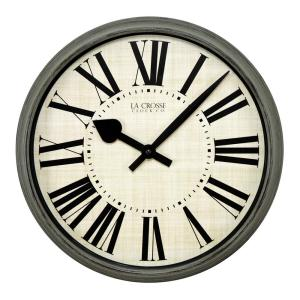clock: (29, 31, 267, 270)
